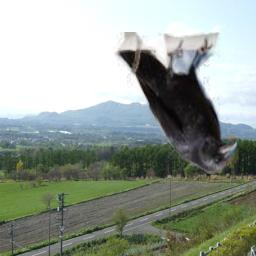Crow: (113, 32, 237, 174)
